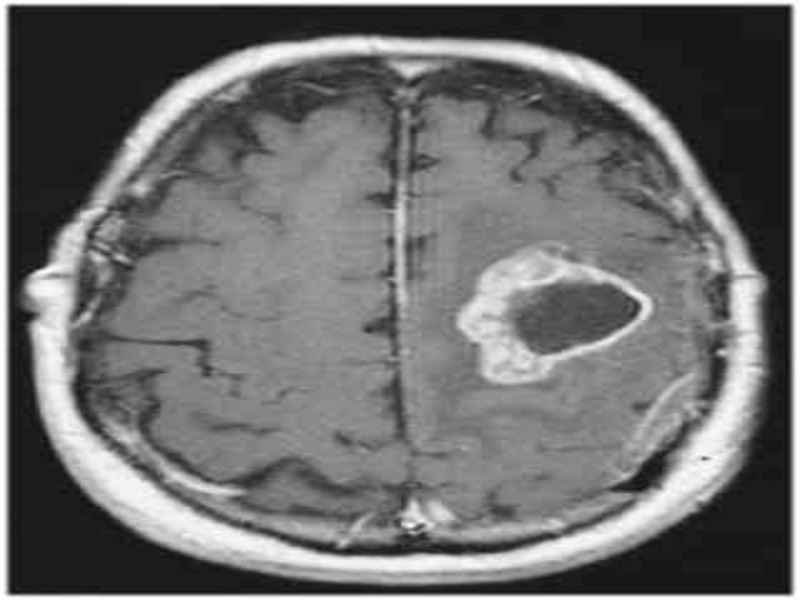tumor: (451, 225, 660, 395)
